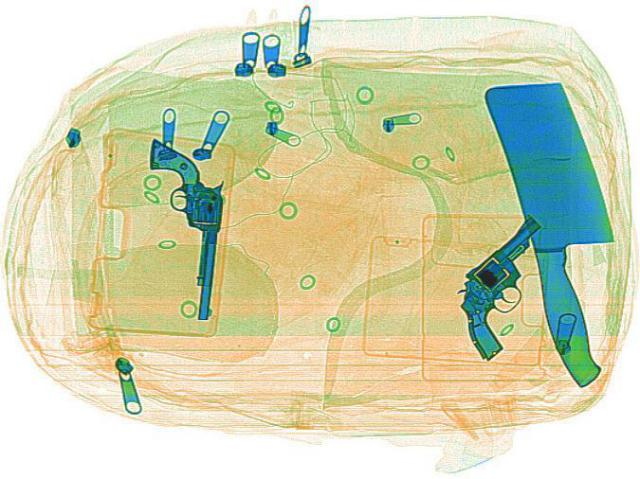Gun: (410, 217, 608, 360), (140, 137, 226, 318)
Knife: (479, 77, 638, 388)
